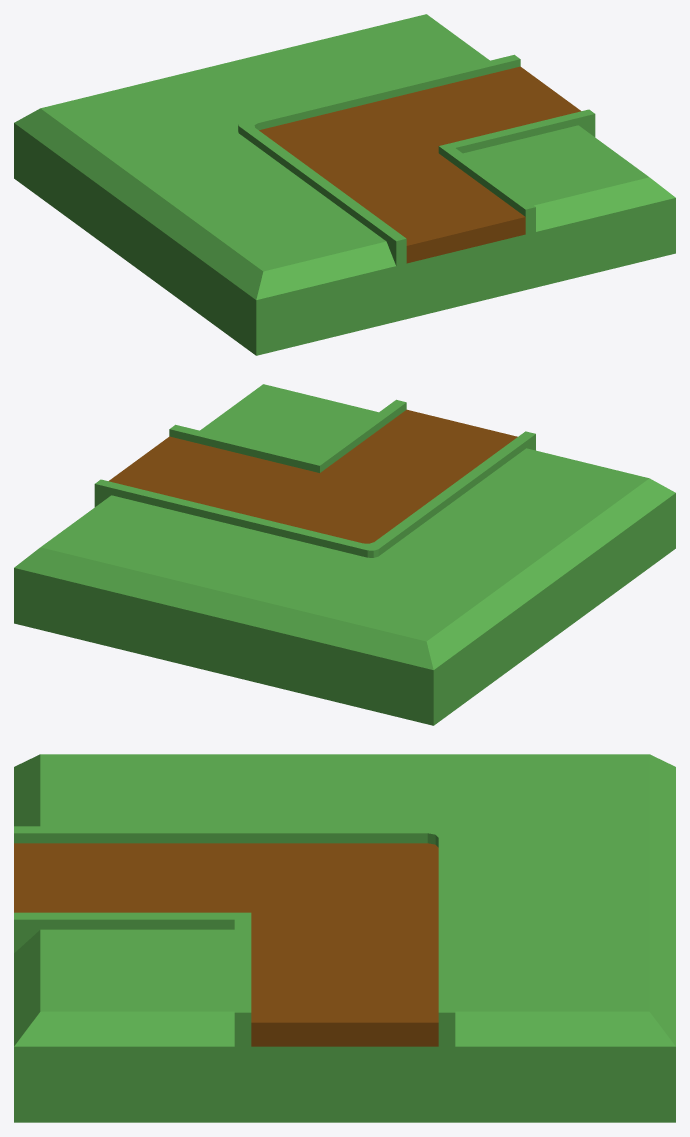
File: Road_RightTile.fbx
3 renders of one model, top to bottom at view 1: azimuth 30°, elevation 25°; view 2: azimuth 150°, elevation 25°; view 3: azimuth 270°, elevation 25°, orthographic. The views are drawn at different scales.
Parts seen in each view (by area): view 1: Cube; view 2: Cube; view 3: Cube.
Part boxes in pixels (<box>): Cube: <box>14,14,675,355</box>; Cube: <box>14,384,675,725</box>; Cube: <box>14,754,675,1122</box>.
Bounding box in the file's own units: 600 × 110 × 600.
